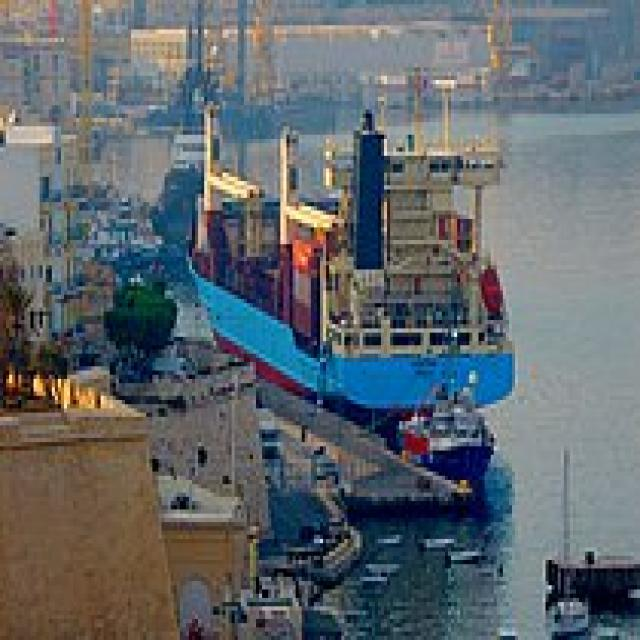Cargo: (174, 67, 515, 417)
